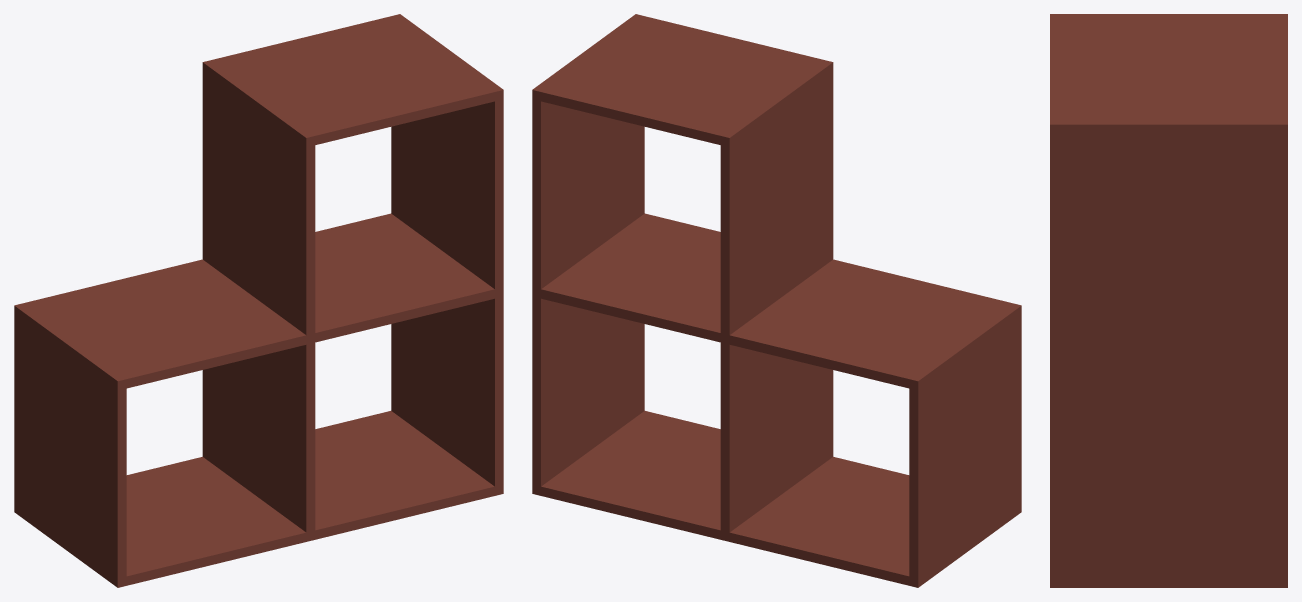
Rendered from squarefur.glb.
3 renders of one model, left to right at view 1: azimuth 30°, elevation 25°; view 2: azimuth 150°, elevation 25°; view 3: azimuth 270°, elevation 25°, orthographic. The views are drawn at different scales.
Parts seen in each view (by area): view 1: Cube.005; view 2: Cube.005; view 3: Cube.005.
Boxes of the visible parts, box(x1,y1,x2,y2) form: Cube.005: box(14, 14, 503, 587); Cube.005: box(532, 14, 1021, 587); Cube.005: box(1050, 14, 1287, 587).
Bounding box in the file's own units: 1.07 × 1.08 × 0.5.
